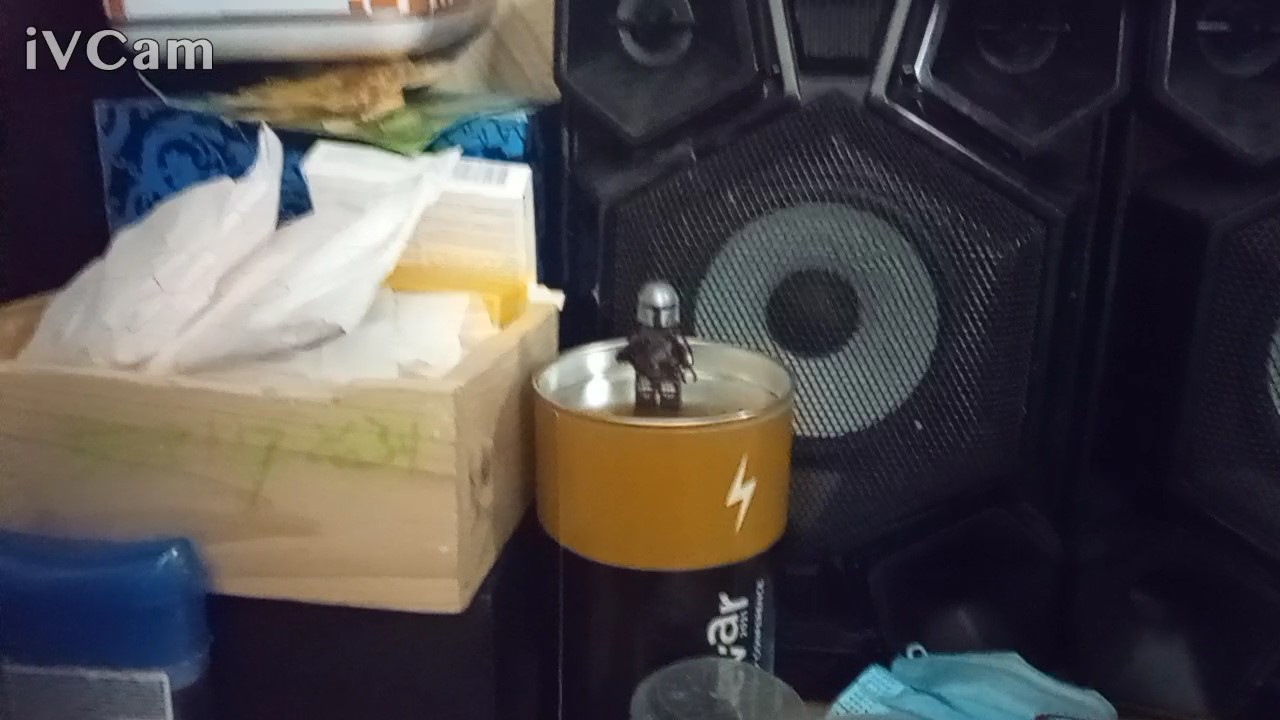mandalorian: (603, 271, 711, 428)
